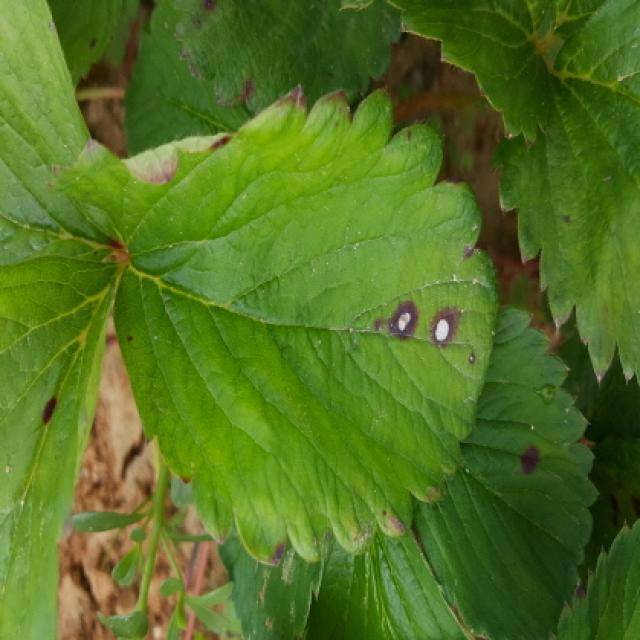Leaf Spot: (114, 82, 500, 568), (411, 308, 598, 638), (490, 0, 638, 389), (0, 257, 126, 638), (173, 0, 404, 117), (556, 521, 638, 638), (50, 0, 139, 87)
